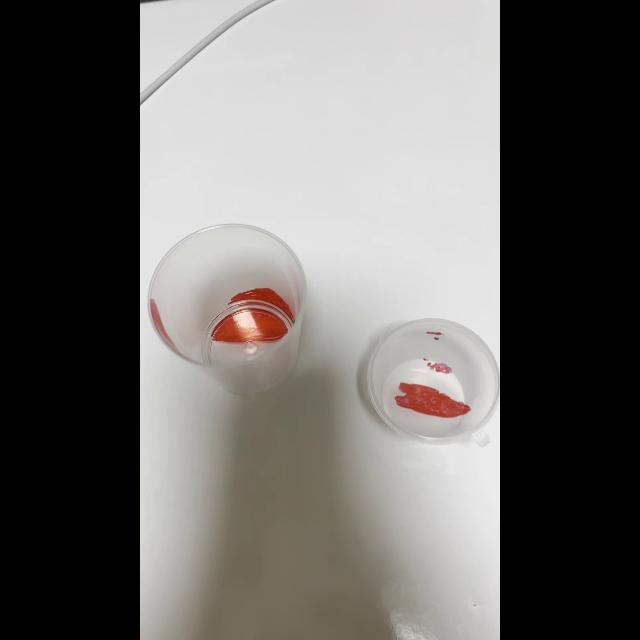dirty: (148, 226, 308, 394), (364, 320, 500, 442)
